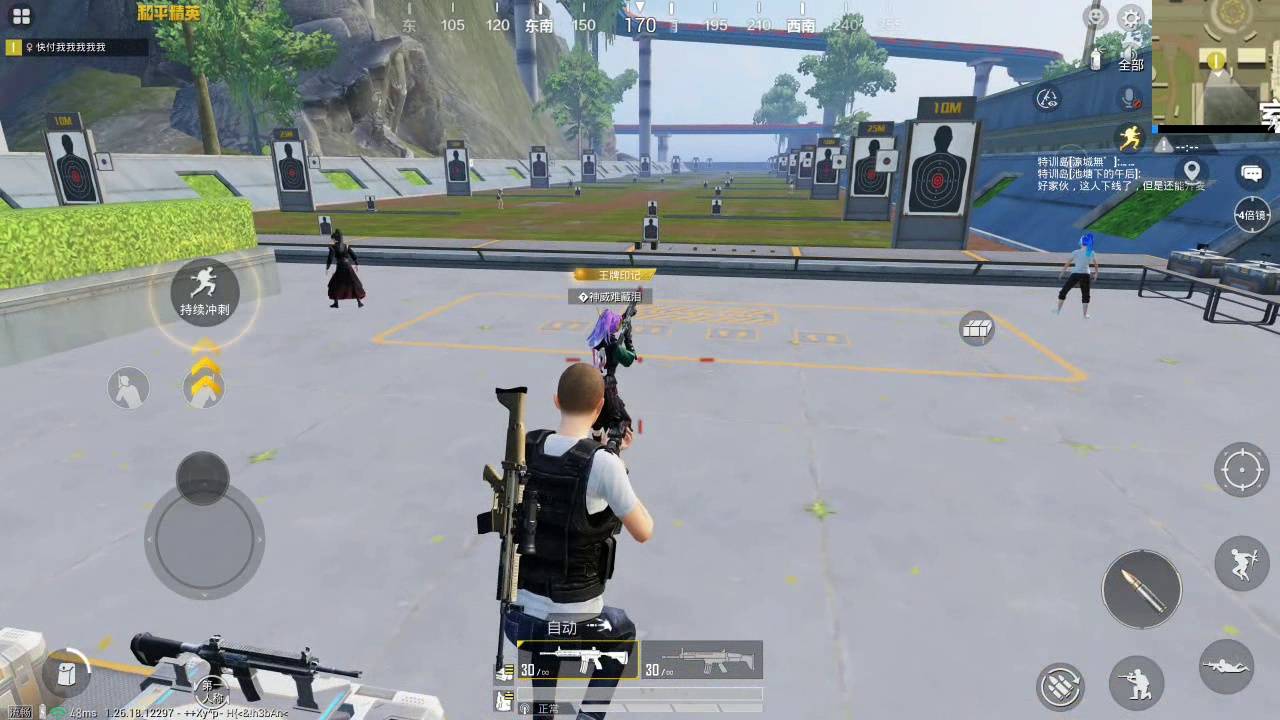enemy: (589, 309, 635, 458), (320, 224, 368, 309), (1057, 233, 1093, 321)
